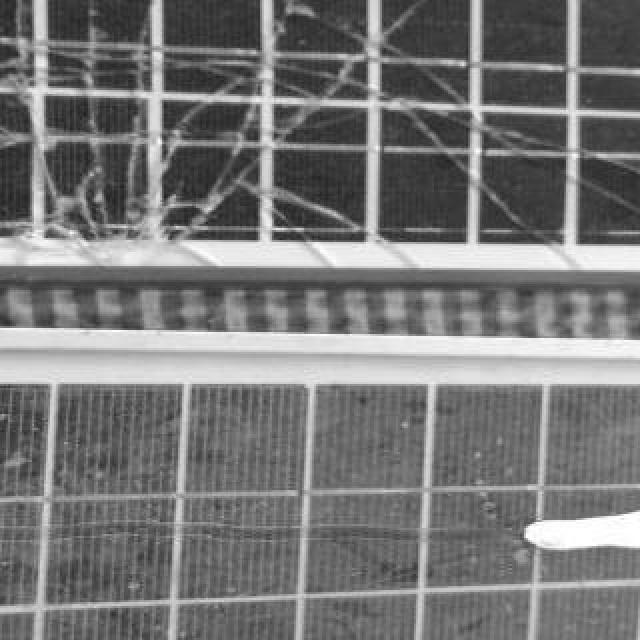Physical-damage: (1, 0, 640, 242), (525, 495, 639, 567)
